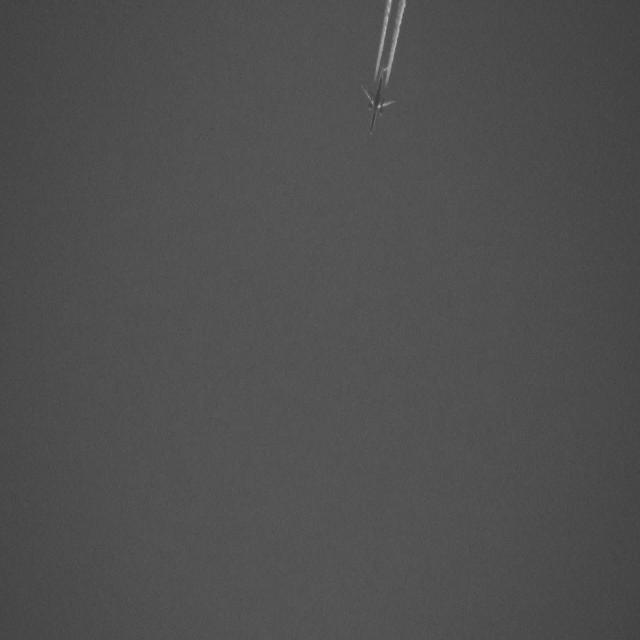aeroplane: (358, 58, 397, 142)
